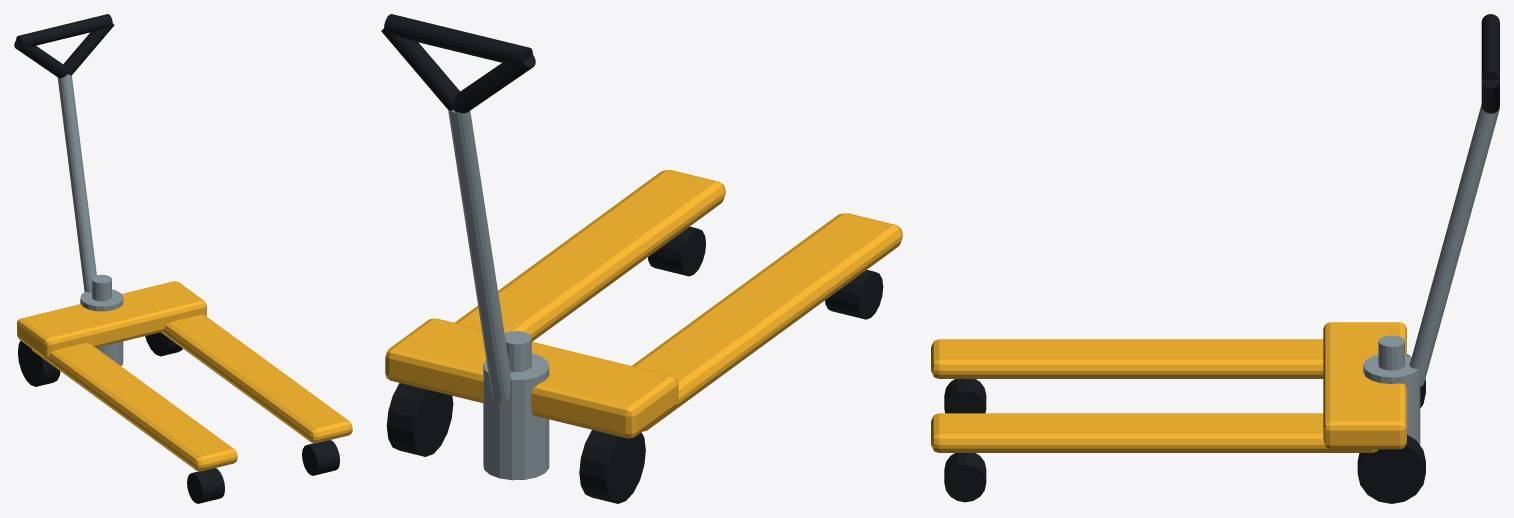
The picture shows the model from 3 angles, left to right: view 1: azimuth 30°, elevation 25°; view 2: azimuth 150°, elevation 25°; view 3: azimuth 270°, elevation 25°; orthographic projection. The views are drawn at different scales.
Visible parts, largest first — view 1: FORK, FORK.001, CROSS_Head, HANDLE_Stem, HANDLE_GripTop, REAR_Wheel, LOAD_Roller, LOAD_Roller.001, PUMP_Body, HANDLE_Side.001, HANDLE_Side, REAR_Wheel.001 (+1 smaller); view 2: FORK, CROSS_Head, FORK.001, HANDLE_Stem, PUMP_Body, REAR_Wheel, REAR_Wheel.001, HANDLE_GripTop, LOAD_Roller.001, LOAD_Roller, HANDLE_Side.001, HANDLE_Side (+1 smaller); view 3: FORK.001, FORK, CROSS_Head, HANDLE_Stem, REAR_Wheel.001, LOAD_Roller.001, PUMP_Body, LOAD_Roller, HANDLE_GripTop, PISTON.
Boxes of the visible parts, x1=… form: FORK: x1=31, y1=342, x2=237, y2=471; FORK.001: x1=161, y1=314, x2=352, y2=443; CROSS_Head: x1=17, y1=281, x2=206, y2=358; HANDLE_Stem: x1=57, y1=74, x2=96, y2=292; HANDLE_GripTop: x1=16, y1=14, x2=112, y2=45; REAR_Wheel: x1=18, y1=340, x2=60, y2=386; LOAD_Roller: x1=187, y1=468, x2=224, y2=503; LOAD_Roller.001: x1=302, y1=440, x2=339, y2=475; PUMP_Body: x1=80, y1=289, x2=123, y2=365; HANDLE_Side.001: x1=63, y1=23, x2=114, y2=75; HANDLE_Side: x1=14, y1=40, x2=67, y2=77; REAR_Wheel.001: x1=145, y1=332, x2=182, y2=356; FORK: x1=632, y1=213, x2=902, y2=431; CROSS_Head: x1=385, y1=318, x2=678, y2=438; FORK.001: x1=454, y1=170, x2=725, y2=341; HANDLE_Stem: x1=448, y1=110, x2=511, y2=402; PUMP_Body: x1=483, y1=353, x2=549, y2=480; REAR_Wheel: x1=579, y1=430, x2=645, y2=503; REAR_Wheel.001: x1=386, y1=383, x2=453, y2=456; HANDLE_GripTop: x1=384, y1=14, x2=532, y2=63; LOAD_Roller.001: x1=648, y1=226, x2=705, y2=276; LOAD_Roller: x1=825, y1=270, x2=883, y2=319; HANDLE_Side.001: x1=381, y1=28, x2=459, y2=110; HANDLE_Side: x1=453, y1=54, x2=535, y2=113; FORK.001: x1=931, y1=413, x2=1378, y2=452; FORK: x1=931, y1=339, x2=1323, y2=378; CROSS_Head: x1=1323, y1=322, x2=1406, y2=449; HANDLE_Stem: x1=1409, y1=104, x2=1499, y2=386; REAR_Wheel.001: x1=1357, y1=435, x2=1425, y2=503; LOAD_Roller.001: x1=944, y1=453, x2=986, y2=502; PUMP_Body: x1=1363, y1=355, x2=1420, y2=445; LOAD_Roller: x1=944, y1=379, x2=986, y2=413; HANDLE_GripTop: x1=1481, y1=14, x2=1499, y2=79; PISTON: x1=1378, y1=335, x2=1404, y2=370.
Size of the model in its own units: 0.65 by 1.2 by 1.49.
